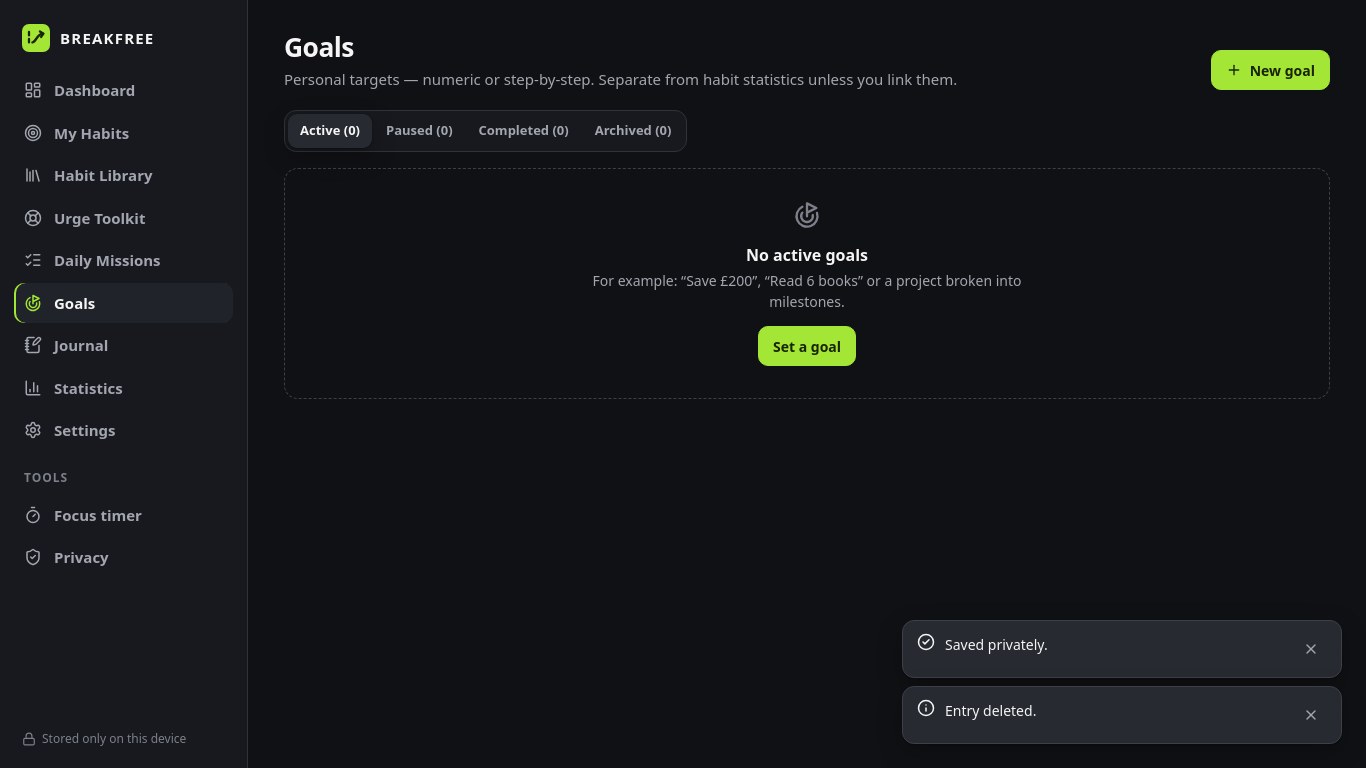
it: missions, focus, journal and goals › creates a numeric goal and updates its progress
The image size is (1366, 768).
Click the button "New goal": [1270, 70] box [1211,50,1330,90]
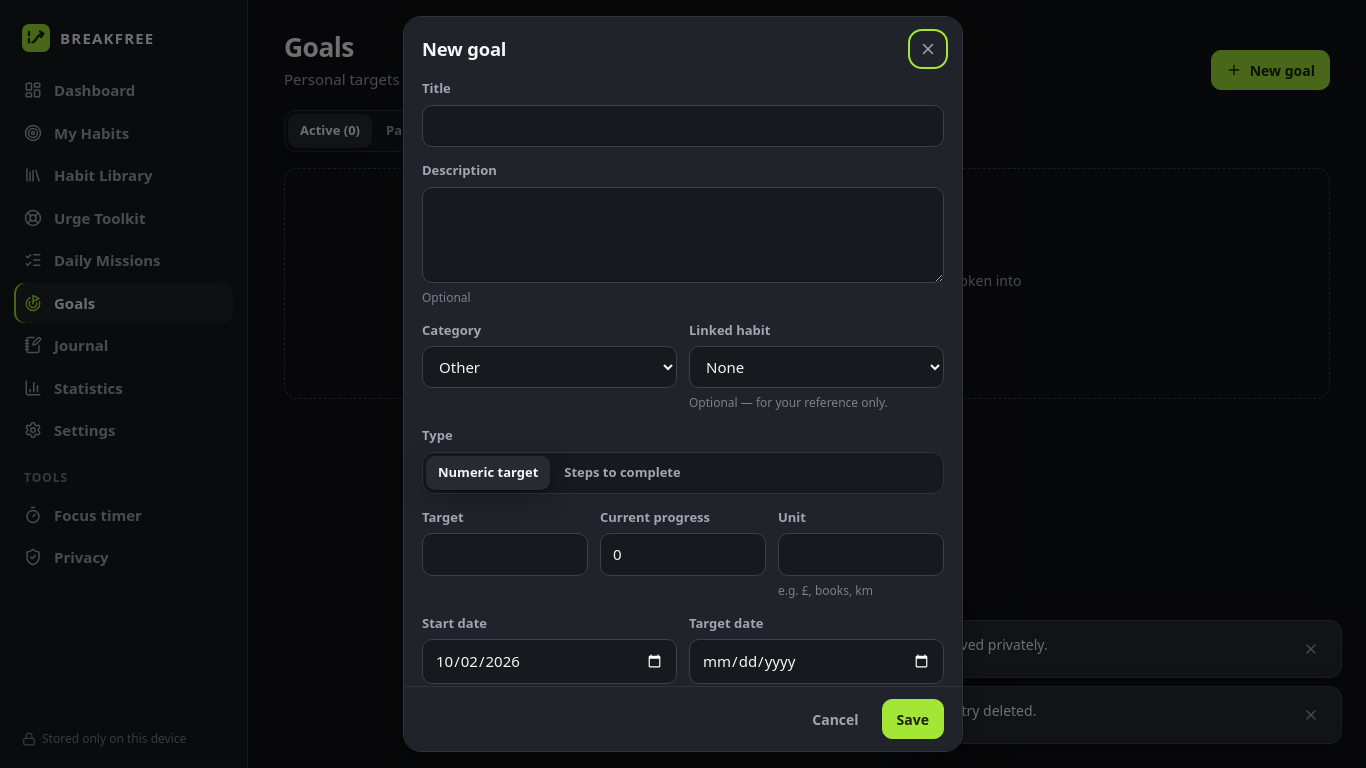
In the field labelled "Title": [683, 126] box [422,104,944,147], type "Save for a bike"
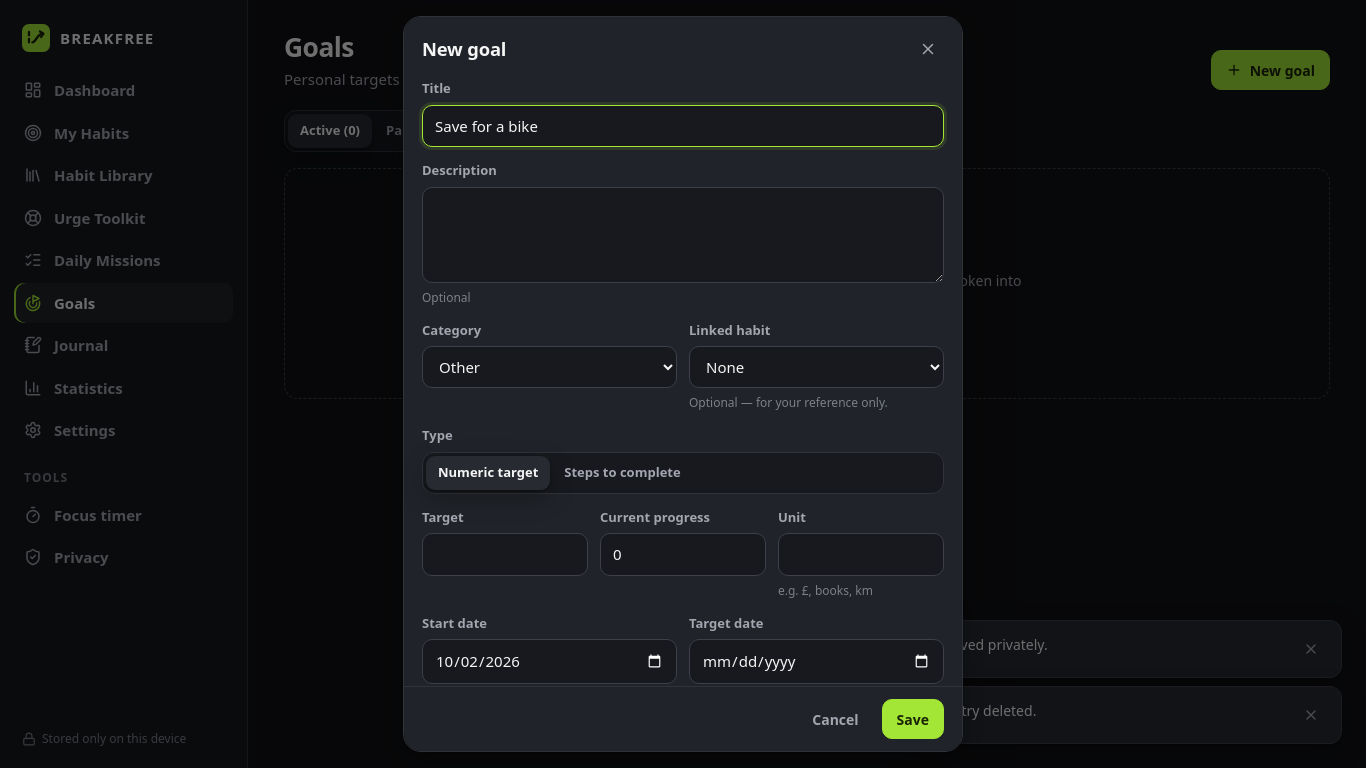
In the number field labelled "Target": [505, 554] box [422,533,588,576], type "200"
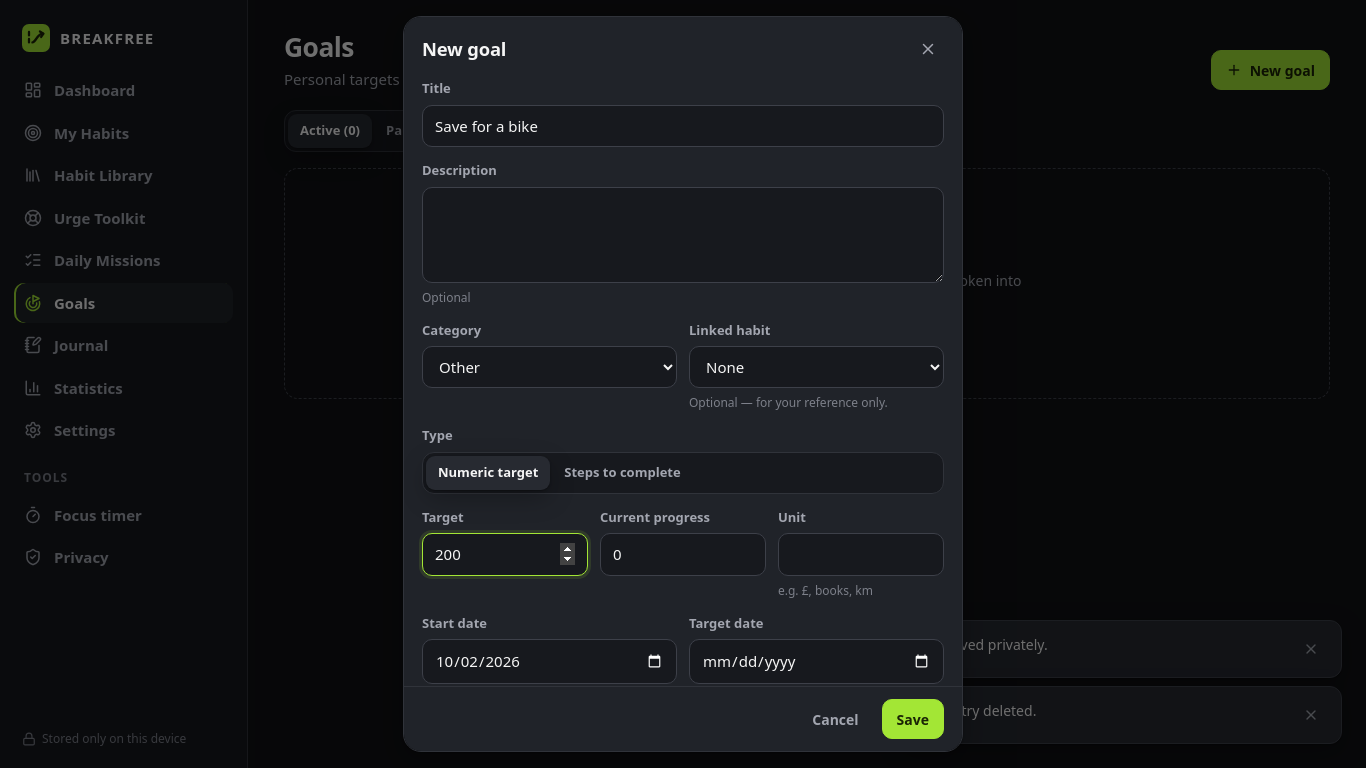
Click the button "Save": [913, 719] box [882,699,944,739]
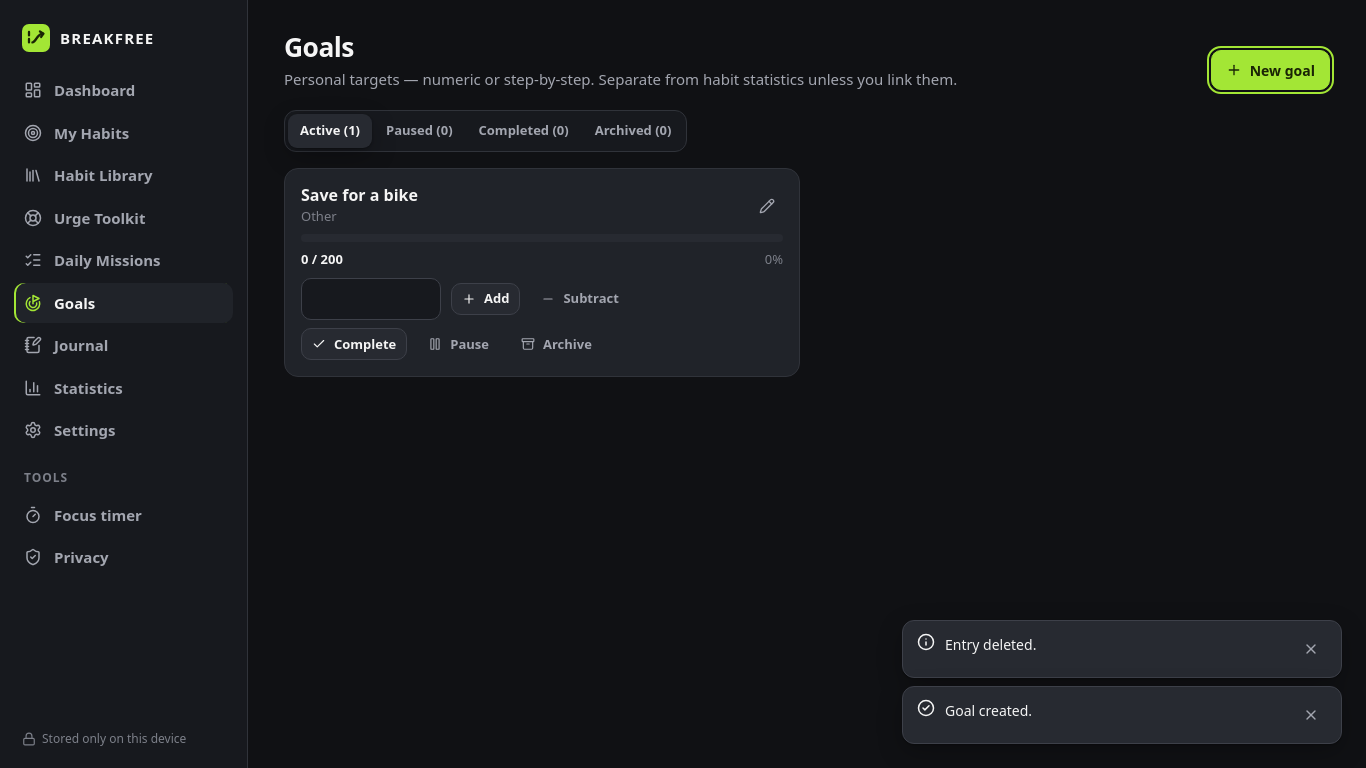
In the number field named "Amount for Save for a bike": [371, 299] box [301,278,441,320], type "50"
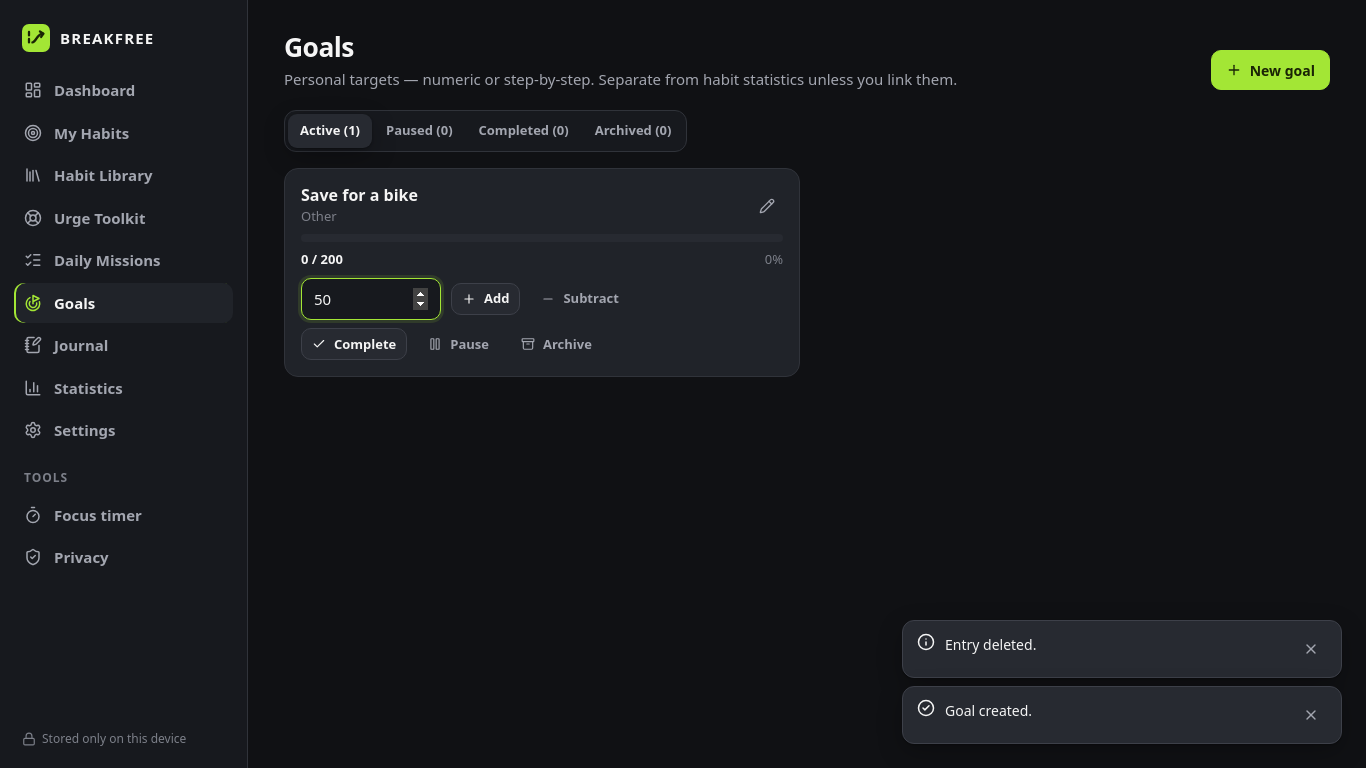
Click the button "Add": [486, 299] box [451,283,520,315]
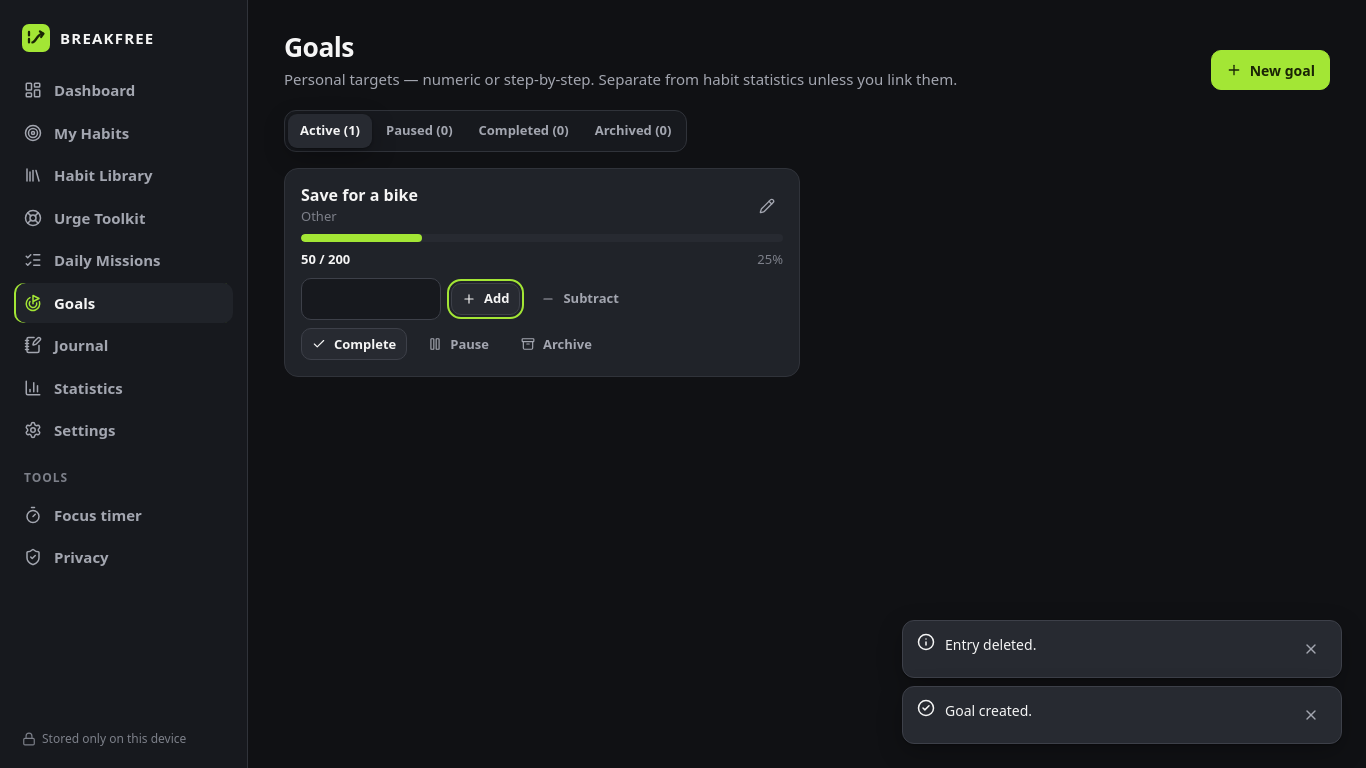
Check: the text "25%" is shown, box [757,250,783,270]
